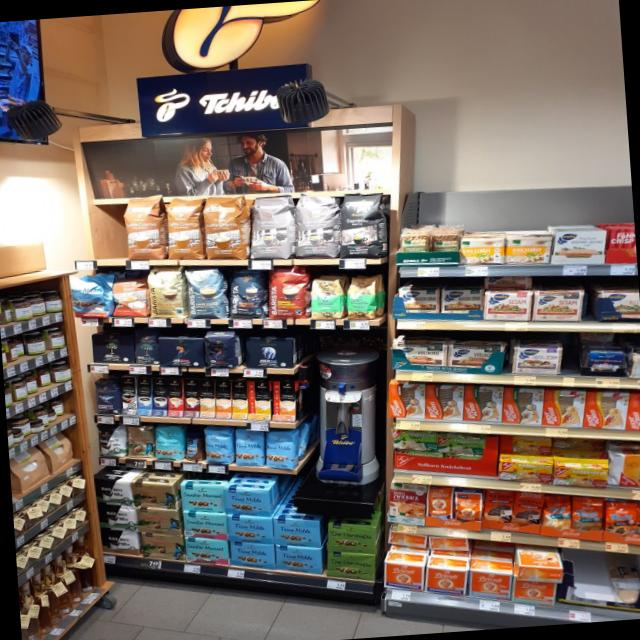AB Gemahlen: (243, 337, 294, 368)
Athiopien Bohne: (344, 276, 382, 319)
Athiopien Gemahlen: (308, 279, 346, 320)
BM Bohne: (133, 331, 160, 365)
BM Gemahlen: (90, 335, 133, 363)
BW Bohne: (96, 424, 127, 457)
BW Gemahlen: (92, 477, 133, 507), (96, 504, 137, 532), (98, 528, 138, 555)
Barista CB: (146, 269, 186, 318)
Barista CC: (184, 267, 228, 317)
Barista Espresso: (226, 267, 268, 317)
Barista Kolumbien: (266, 267, 311, 319)
C Fino Bohne: (91, 378, 120, 415)
CC Vollmundig: (110, 277, 148, 317)
CC Vollmundig 36 Pads: (120, 193, 166, 261), (204, 194, 250, 260)
Colombia BB Bohne: (125, 424, 155, 458)
Colombia BB Gemahlen: (129, 481, 176, 510), (137, 507, 181, 536), (140, 533, 184, 561)
Espresso Aromatisch: (247, 195, 295, 260), (293, 192, 340, 258)
Espresso Kraftig: (336, 193, 387, 258)
FM 36 Pads: (70, 274, 112, 318)
FM Bohne: (234, 429, 266, 467), (264, 431, 295, 470), (203, 428, 233, 465)
FM Gemahlen: (163, 195, 207, 261), (223, 486, 270, 518), (275, 544, 321, 575), (273, 518, 320, 548), (226, 514, 273, 544), (229, 542, 275, 570)
FM Instant: (183, 431, 205, 462)
Herzhatfe Mundig: (326, 521, 377, 553), (326, 550, 376, 581)
LG Bohne: (204, 332, 237, 368)
LG Gemahlen: (159, 337, 205, 368)
SM Bohne: (152, 425, 185, 460)
SM Gemahlen: (181, 484, 226, 512), (183, 537, 228, 565), (183, 511, 227, 539)
Simo CCMild: (248, 381, 271, 419)
Simo CCMild bigpack: (231, 380, 247, 419)
Simo CCVollmundig: (272, 380, 296, 421)
Simo CCVollmundig bigpack: (215, 379, 231, 419)
Simo Decaff: (198, 379, 214, 418)
Simo Es Brazil: (167, 378, 182, 417)
Simo Es Caramel: (183, 377, 199, 417)
Simo Es Elegant: (121, 376, 136, 415)
Simo Es Kraft: (151, 378, 167, 416)
Simo Es Vanilla: (136, 377, 152, 415)
